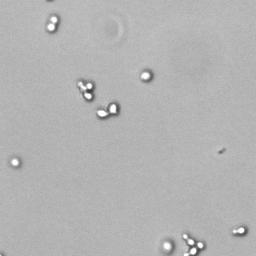budding: (232, 226, 246, 236)
cluster: (179, 231, 206, 256), (75, 78, 97, 103)
individual: (95, 102, 119, 119), (46, 14, 59, 33), (160, 240, 174, 254), (139, 70, 152, 82), (10, 157, 21, 168)
